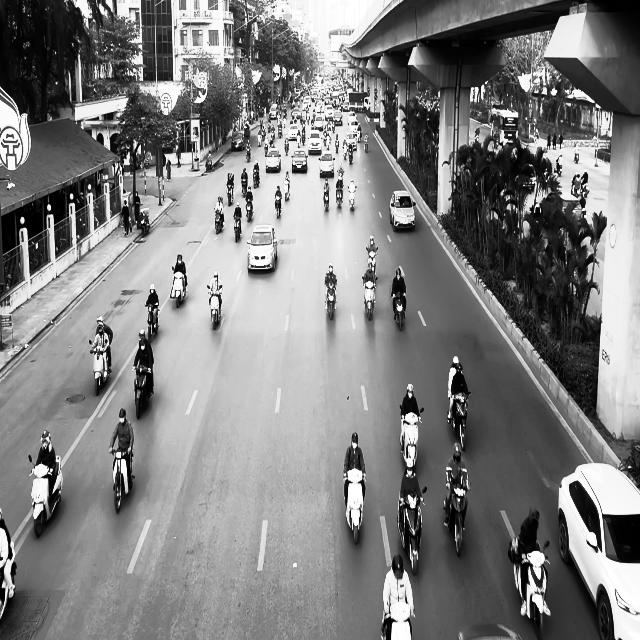bus: (491, 109, 518, 145)
car: (557, 461, 640, 639), (246, 224, 278, 273), (389, 190, 416, 231), (318, 150, 336, 177), (291, 149, 307, 173), (265, 148, 281, 172), (308, 130, 322, 154), (231, 131, 244, 150)
motorbike: (508, 537, 550, 637), (28, 454, 63, 537), (396, 486, 426, 575), (443, 478, 471, 556), (109, 444, 135, 513), (343, 470, 366, 544), (399, 405, 424, 469), (447, 391, 470, 452), (89, 338, 111, 395), (381, 601, 413, 639), (133, 363, 154, 419), (207, 285, 222, 330), (362, 275, 377, 320), (171, 267, 186, 308), (144, 302, 159, 341), (392, 292, 406, 331), (324, 282, 336, 320), (366, 246, 378, 278), (139, 208, 150, 236), (214, 208, 224, 234), (233, 215, 241, 242), (347, 187, 356, 211), (335, 182, 343, 208), (245, 197, 253, 221), (274, 195, 282, 218), (323, 186, 330, 212), (252, 169, 260, 188), (283, 180, 290, 201), (241, 177, 247, 196)
